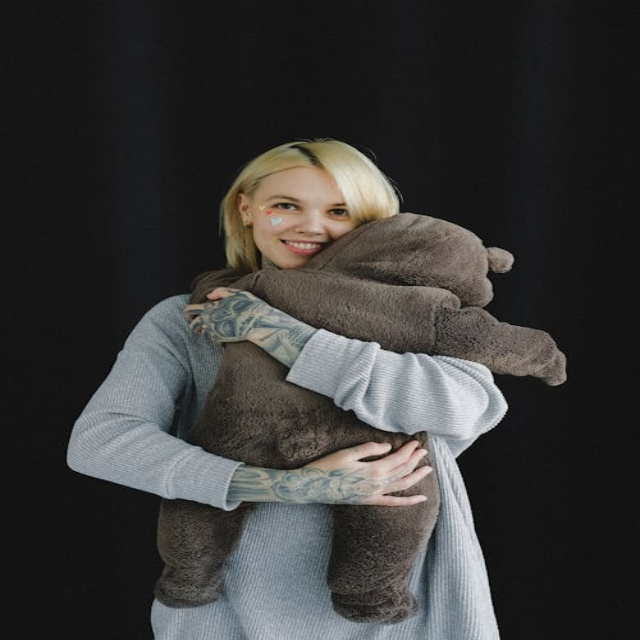Sin_gafas: (255, 189, 353, 219)
Sin_guantes: (268, 438, 436, 507), (184, 288, 314, 366)
Sin_mascara: (265, 236, 332, 262)
